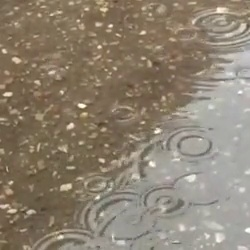drop: (83, 192, 157, 240), (190, 9, 250, 46), (167, 122, 213, 160), (170, 173, 222, 206), (143, 183, 188, 219), (35, 228, 102, 250), (81, 175, 115, 197), (108, 106, 137, 123), (174, 26, 200, 44), (237, 68, 250, 82)
